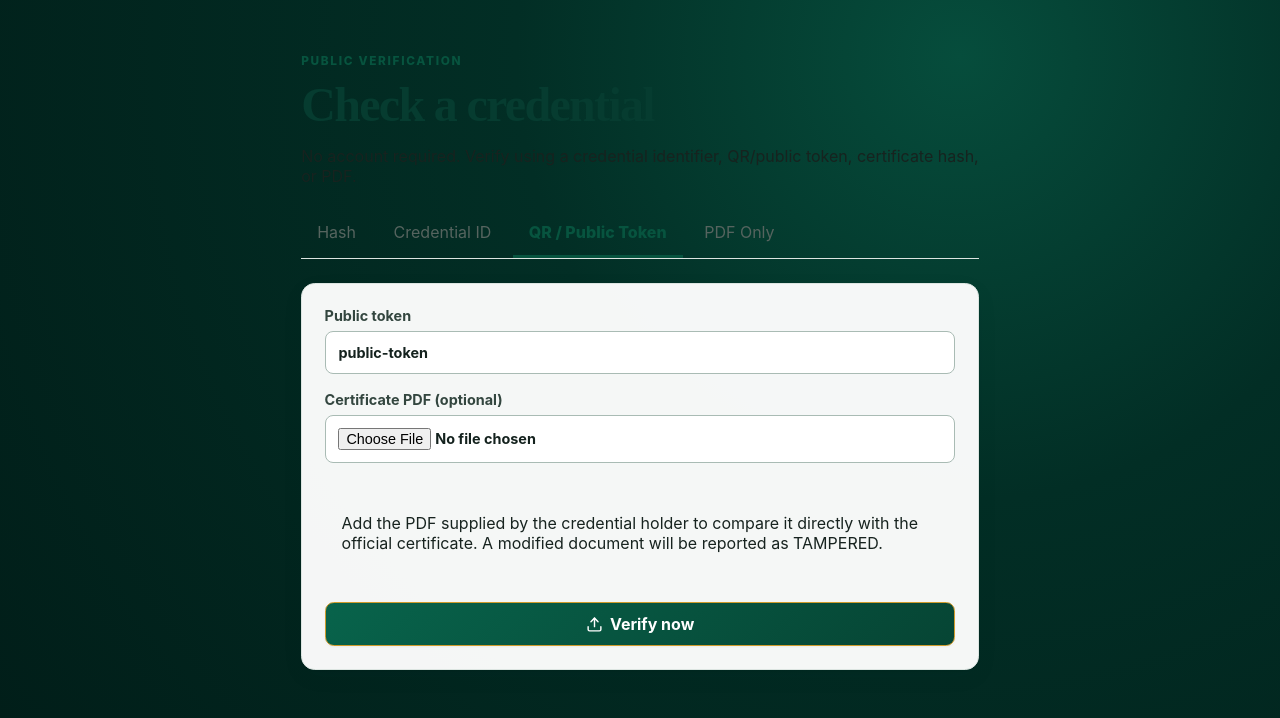
Test: public experience › loads QR/public token URL
Click the button "Verify now".
click(640, 624)  # box [325,602,955,646]
(page scrolled)
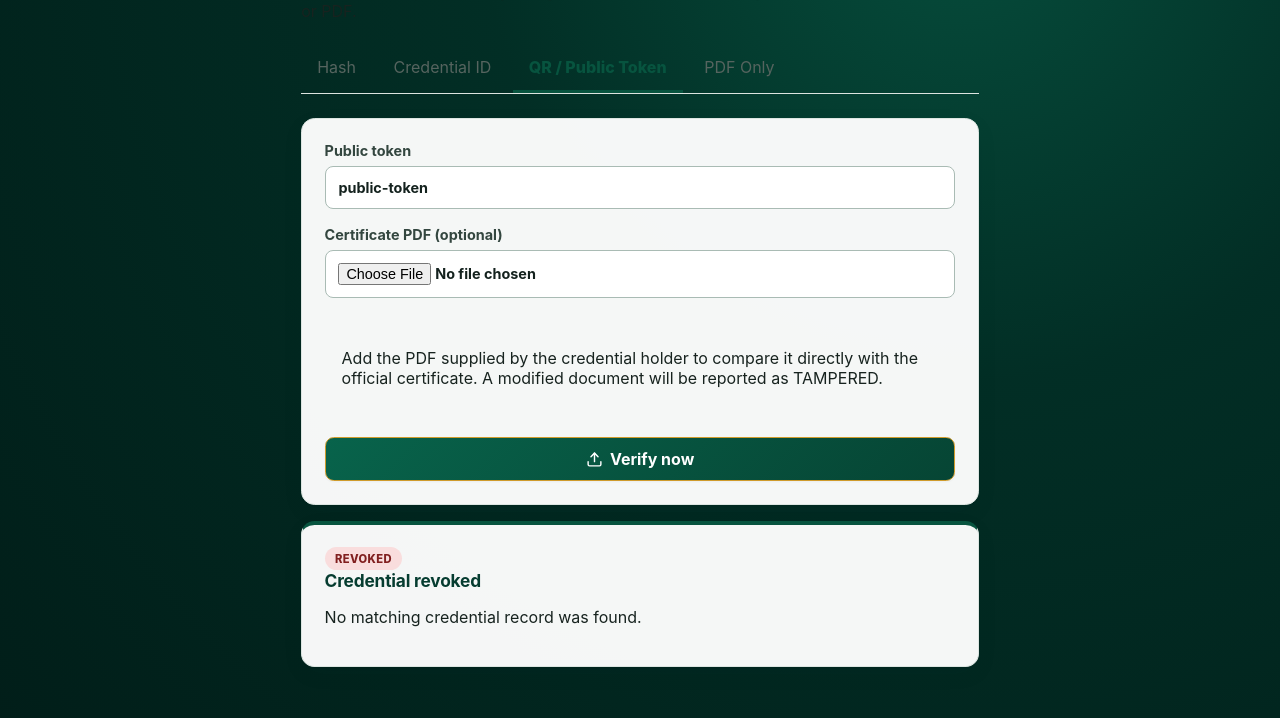
Expected: the heading "Credential revoked" is shown, [325,570,481,591]
